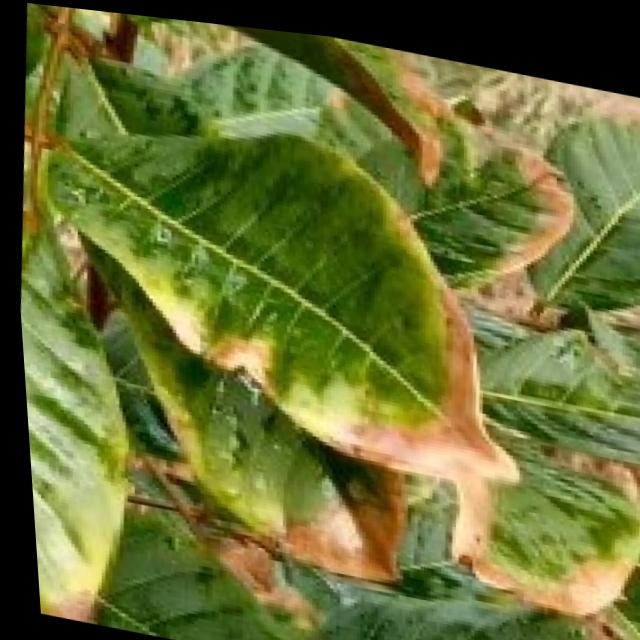Leaf Blight: (148, 220, 565, 540), (319, 28, 640, 293), (162, 477, 640, 640)
